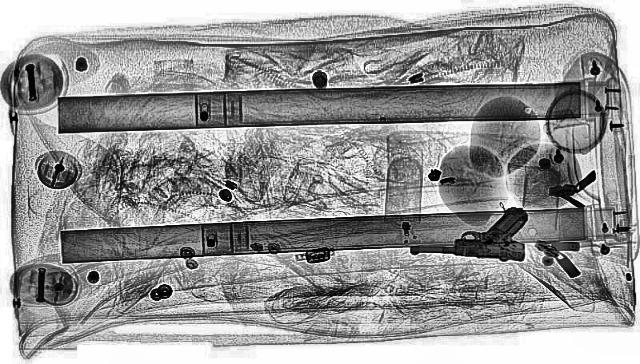Gun: (408, 205, 530, 261)
